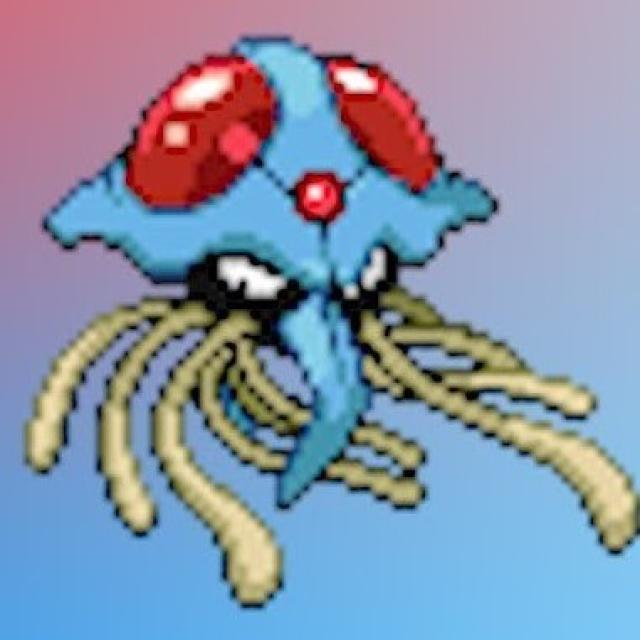Tentacruel: (38, 0, 504, 400)
